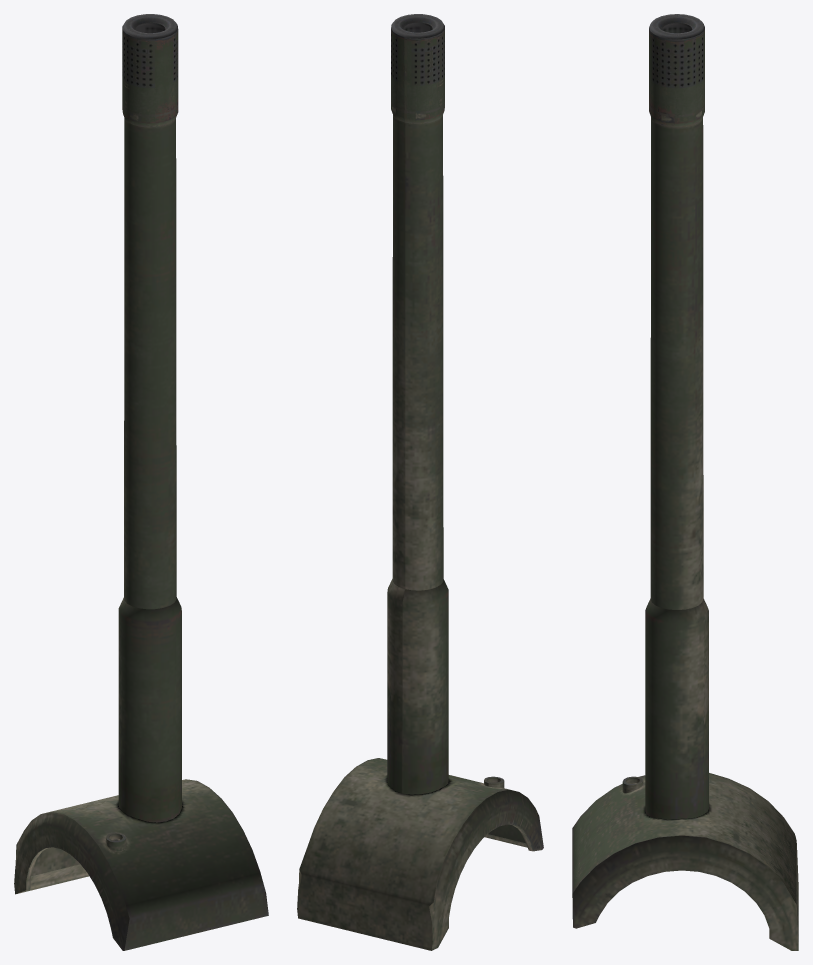
File: Gun_06.glb
3 renders of one model, left to right at view 1: azimuth 30°, elevation 25°; view 2: azimuth 150°, elevation 25°; view 3: azimuth 270°, elevation 25°, orthographic. The views are drawn at different scales.
Parts seen in each view (by area): view 1: set_0_group_0; view 2: set_0_group_0; view 3: set_0_group_0.
Part boxes in pixels (bbox=[...]): set_0_group_0: bbox=[14, 14, 268, 950]; set_0_group_0: bbox=[297, 14, 543, 950]; set_0_group_0: bbox=[572, 14, 798, 950].
Bounding box in the file's own units: 0.514 × 3.04 × 0.6958.
1 material, 1 textured.
